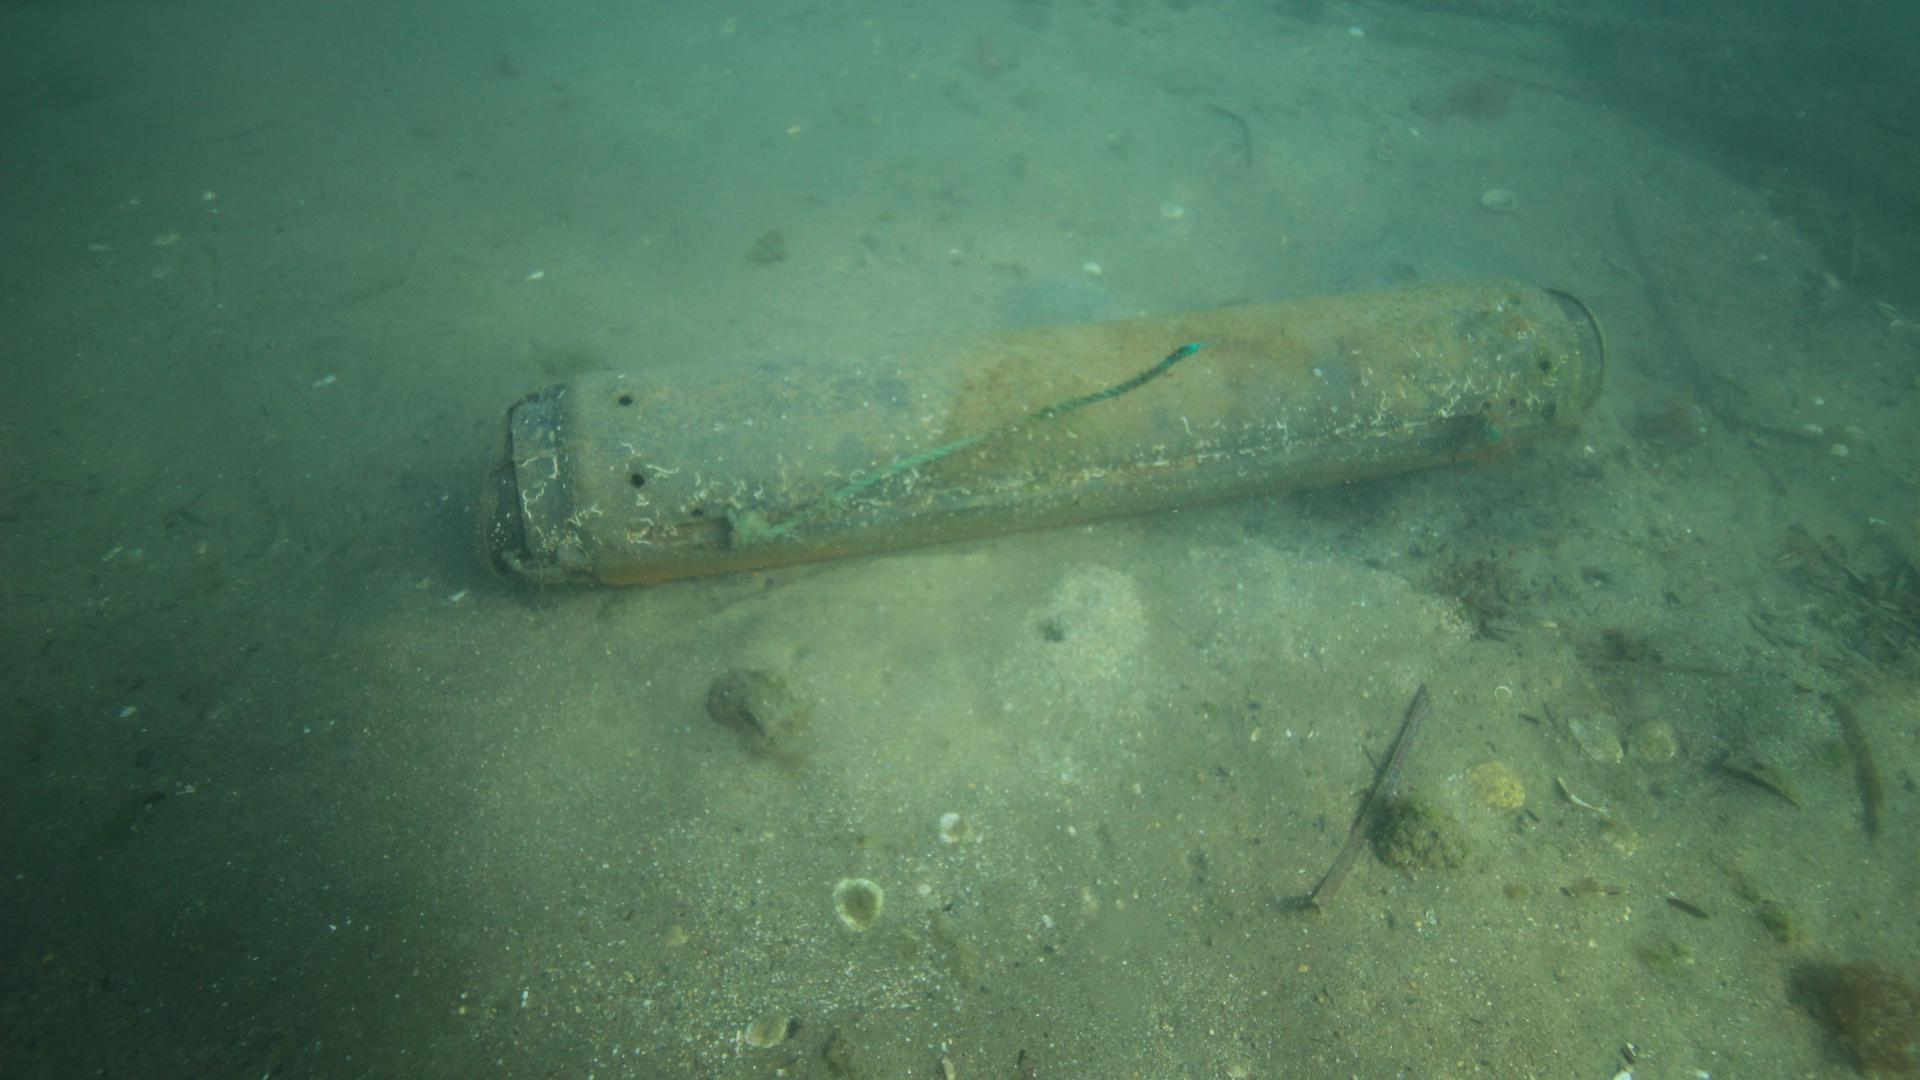eel fish trap: (483, 280, 1606, 585)
rope: (767, 338, 1203, 538)
